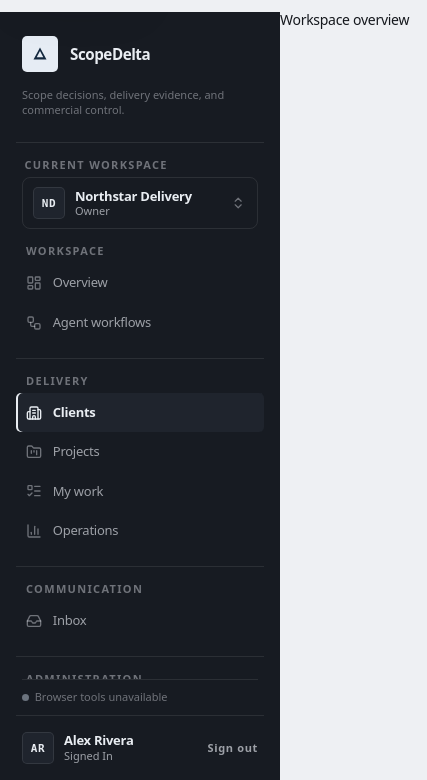
authenticated application shell › exposes workspace switching, role, navigation, and keyboard landmarks
Expected: the navigation bar "Workspace" is shown, left=16, top=239, right=264, bottom=679
Click the text "Northstar Delivery".
click(133, 196)  # box left=75, top=187, right=192, bottom=205
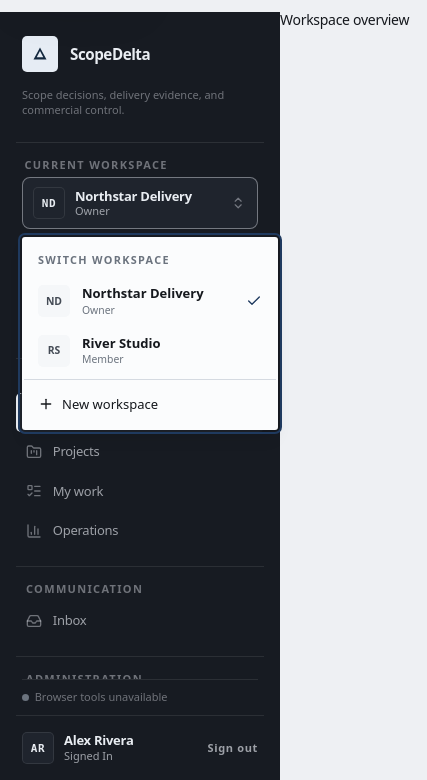
Expected: the heading "Delivery" is shown, left=26, top=373, right=89, bottom=388
Now the text "Switch workspace" is shown, box left=38, top=252, right=170, bottom=267
